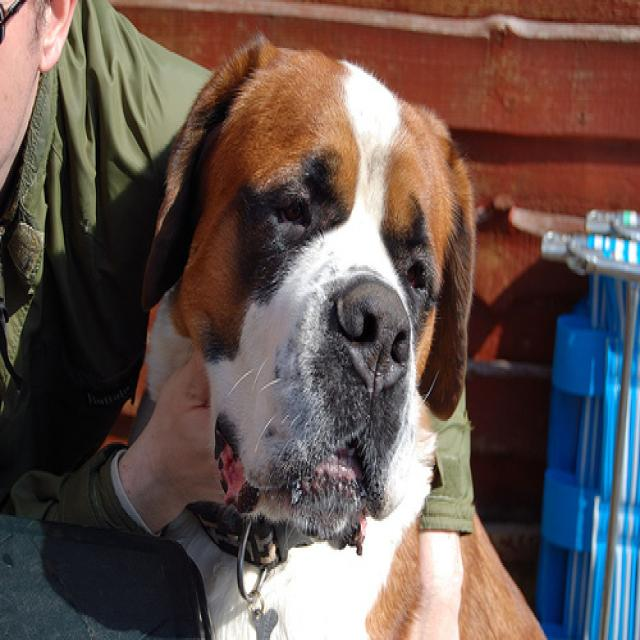dog-saint_bernard: (132, 21, 484, 636)
